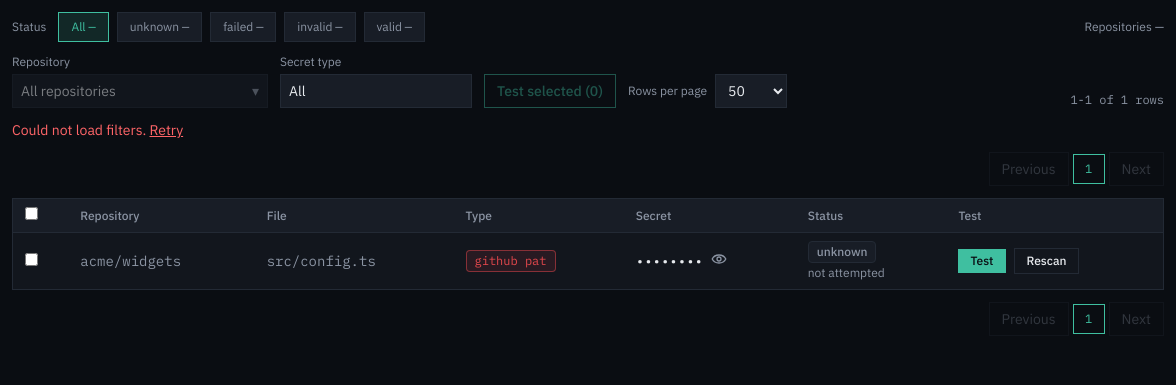
Test: TestingPanel (regular user, scoped to own approved repos) › explains unavailable options when facet loading fails
expect the text "Could not load filters. Retry" is shown: met, box [12, 120, 183, 140]
What coordinates should you click on to do the following:
click the button named "Secret type"
I would click on:
 (376, 91)
Its box is [280, 74, 472, 108].
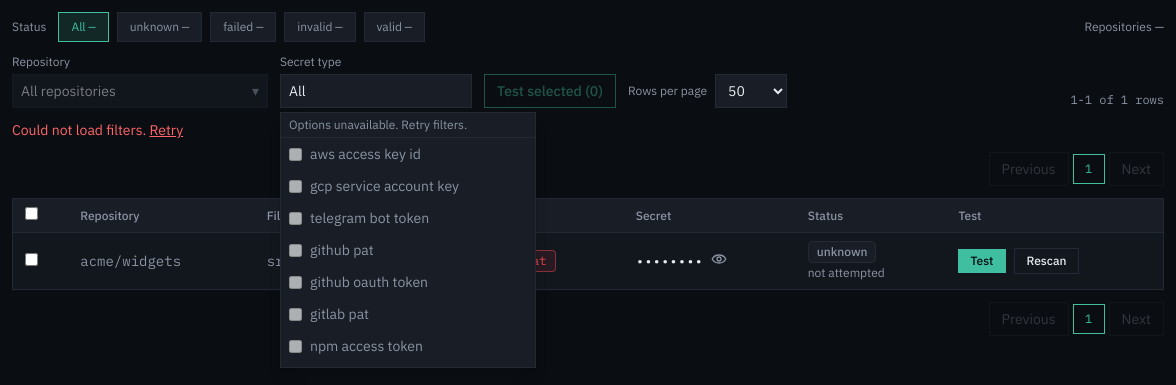
expect the text "Options unavailable. Retry filters." is shown: met, box [281, 113, 535, 138]
expect the checkbox labelled "github pat" is disabled: met, box [289, 244, 302, 256]
